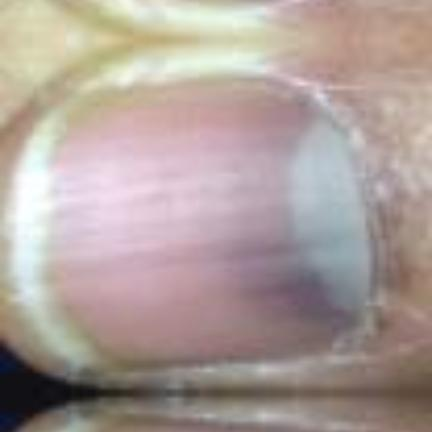Nail: (10, 76, 381, 375), (54, 409, 334, 432), (117, 0, 259, 2)
